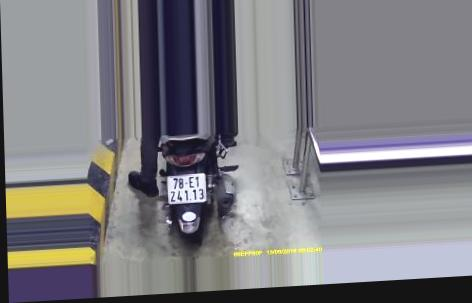License_Plate: (163, 169, 208, 206)
